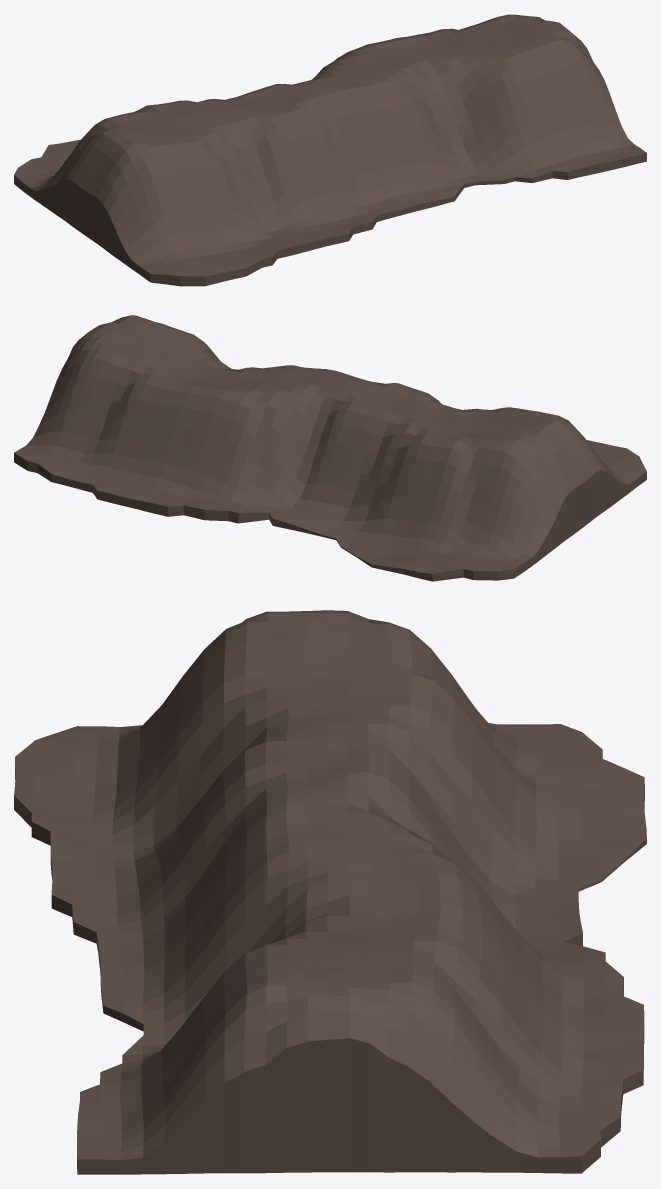
3 views of the same model, one above another, from view 1: azimuth 30°, elevation 25°; view 2: azimuth 150°, elevation 25°; view 3: azimuth 270°, elevation 25° (orthographic). The views are drawn at different scales.
Parts seen in each view (by area): view 1: J-4; view 2: J-4; view 3: J-4.
Part boxes in pixels (left/top/right/bottom): J-4: left=14, top=14, right=646, bottom=286; J-4: left=14, top=315, right=646, bottom=581; J-4: left=14, top=610, right=646, bottom=1174.
Size of the model in its own units: 7068 by 1227 by 4345.
